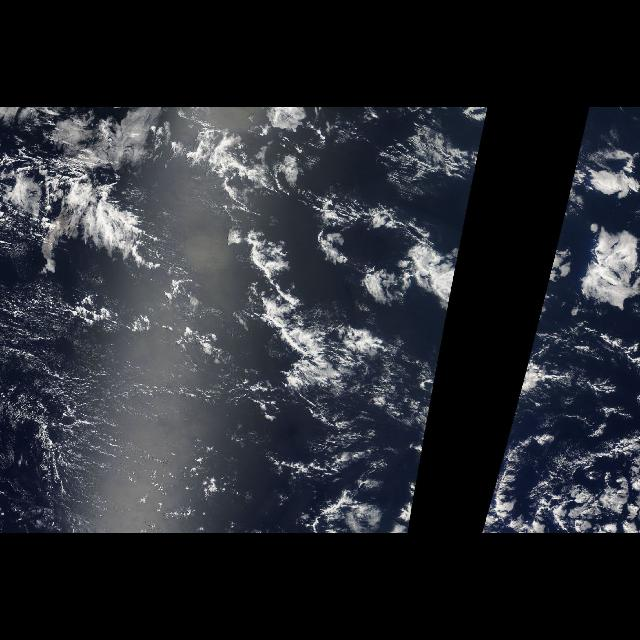Gravel: (12, 317, 184, 533)
